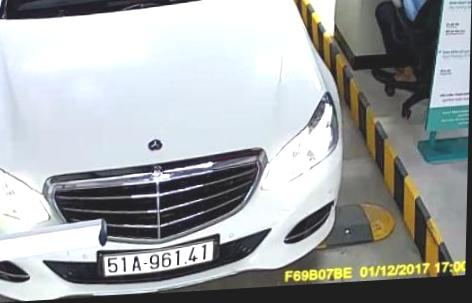License_Plate: (93, 243, 224, 285)
